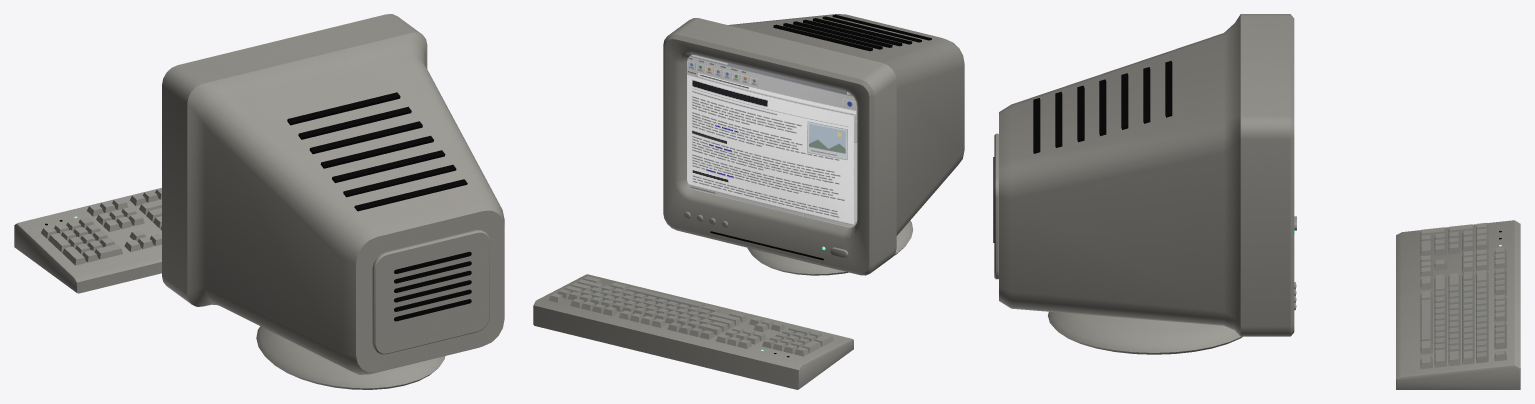
File: web_monitor_1990s.glb
3 renders of one model, left to right at view 1: azimuth 30°, elevation 25°; view 2: azimuth 150°, elevation 25°; view 3: azimuth 270°, elevation 25°, orthographic. The views are drawn at different scales.
Parts seen in each view (by area): view 1: Monitor, Keyboard; view 2: Monitor, Screen, Keyboard; view 3: Monitor, Keyboard.
Boxes of the visible parts, x1,y1,x2,y2 form: Monitor: (162, 14, 504, 389); Keyboard: (14, 188, 161, 293); Monitor: (663, 14, 964, 275); Screen: (687, 54, 857, 227); Keyboard: (533, 274, 853, 389); Monitor: (993, 14, 1296, 354); Keyboard: (1396, 220, 1520, 389).
Bounding box in the file's own units: 0.47 × 0.38 × 0.7195.
Materials: 5 (4 with a texture image).
